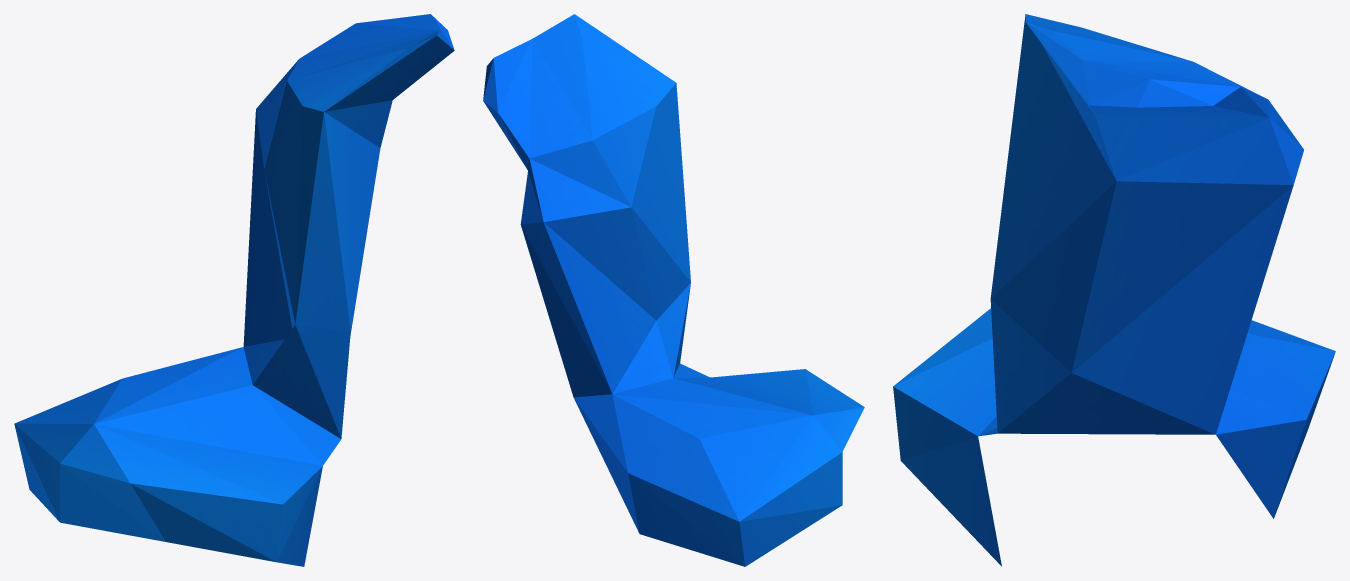
Rendered from WaterFall.fbx.
The picture shows the model from 3 angles, left to right: view 1: azimuth 30°, elevation 25°; view 2: azimuth 150°, elevation 25°; view 3: azimuth 270°, elevation 25°; orthographic projection. The views are drawn at different scales.
Visible parts, largest first — view 1: WaterFall; view 2: WaterFall; view 3: WaterFall.
Boxes of the visible parts, x1,y1,x2,y2 form: WaterFall: (14,14,454,566); WaterFall: (483,14,864,566); WaterFall: (893,14,1335,566).
Size of the model in its own units: 2096 by 2509 by 1587.
1 material, 1 textured.
